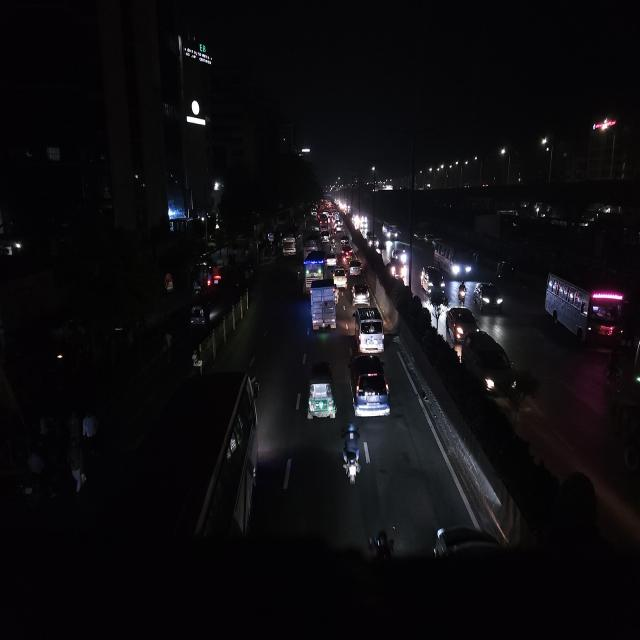bus: (129, 367, 263, 639), (541, 268, 627, 348), (432, 238, 478, 280), (300, 238, 330, 290), (280, 228, 300, 259)
car: (427, 517, 549, 639), (458, 327, 522, 408), (346, 350, 393, 424), (351, 303, 386, 354), (446, 306, 480, 344), (473, 279, 505, 316), (420, 264, 446, 297), (350, 280, 372, 305), (333, 267, 349, 289), (393, 242, 408, 263), (382, 222, 399, 240), (390, 254, 402, 278), (340, 242, 354, 261), (349, 257, 363, 275), (327, 252, 338, 268), (368, 233, 378, 249)
cng: (302, 358, 338, 426), (189, 296, 212, 331), (494, 258, 516, 282)
motorcycle: (338, 425, 368, 492), (456, 280, 469, 307)
truck: (308, 278, 340, 336)
